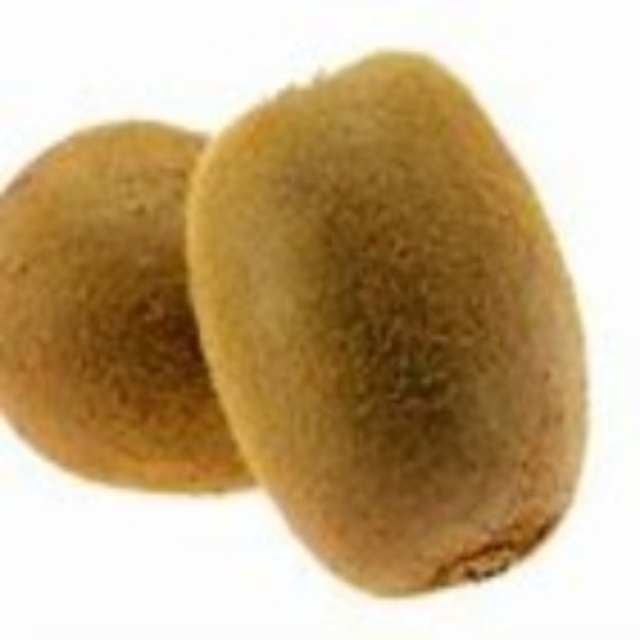kiwi: (192, 58, 580, 599), (5, 122, 294, 505)
